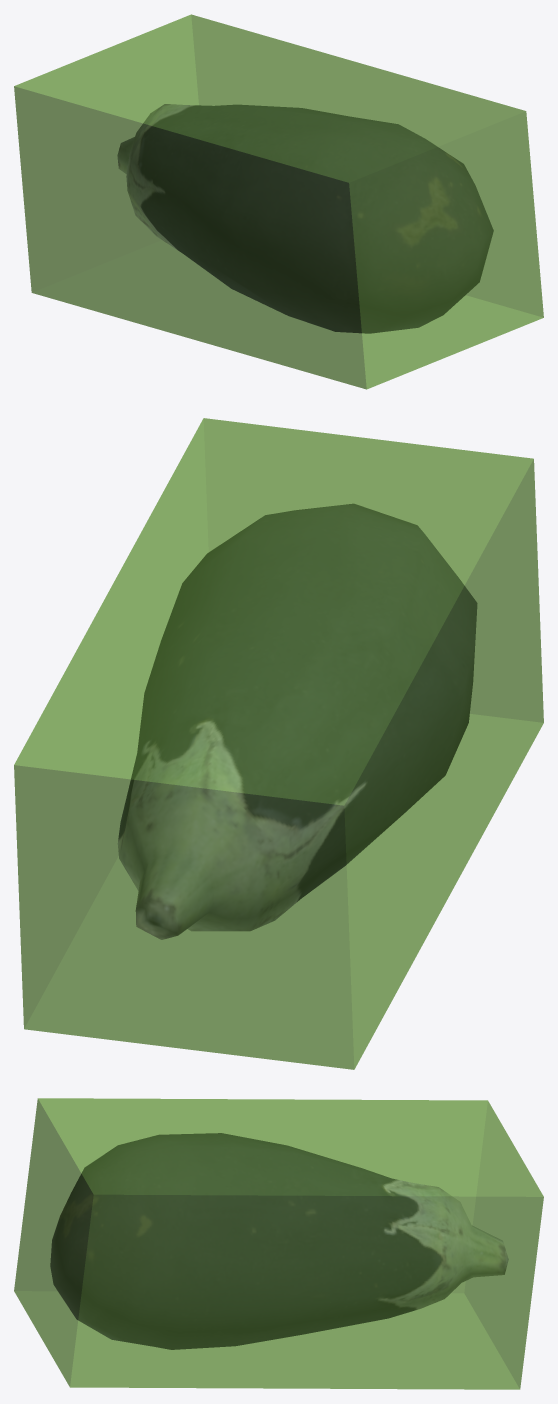
File: pg_Aubergine_03.fbx
The picture shows the model from 3 angles, top to bottom: view 1: azimuth 30°, elevation 25°; view 2: azimuth 150°, elevation 25°; view 3: azimuth 270°, elevation 25°; orthographic projection. The views are drawn at different scales.
Parts seen in each view (by area): view 1: pg_Aubergine_03_a_col, pg_Aubergine_03_a_LOD0; view 2: pg_Aubergine_03_a_col, pg_Aubergine_03_a_LOD0; view 3: pg_Aubergine_03_a_col, pg_Aubergine_03_a_LOD0.
Part boxes in pixels (x1,y1,x2,y2): pg_Aubergine_03_a_col: (14, 14, 543, 389); pg_Aubergine_03_a_LOD0: (117, 104, 493, 333); pg_Aubergine_03_a_col: (14, 418, 543, 1069); pg_Aubergine_03_a_LOD0: (117, 503, 477, 939); pg_Aubergine_03_a_col: (14, 1098, 543, 1389); pg_Aubergine_03_a_LOD0: (50, 1133, 508, 1349).
Size of what is drawn, in the model's own units: 14.61 by 11.2 by 22.48.
